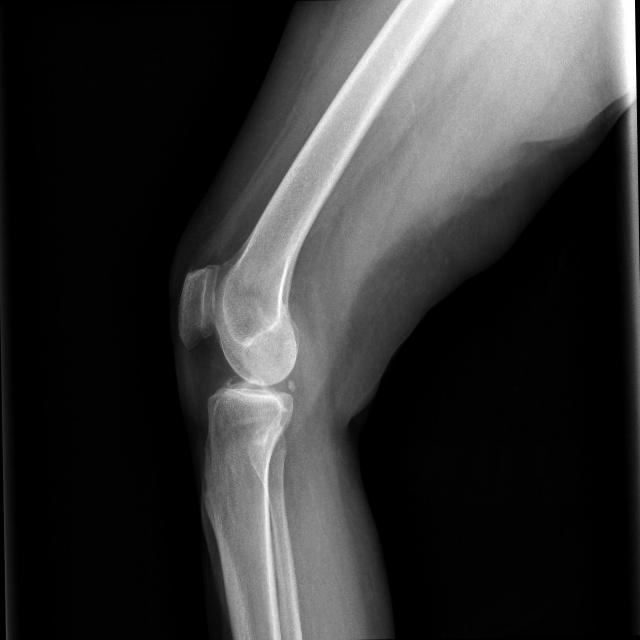Knee: (176, 268, 301, 437)
